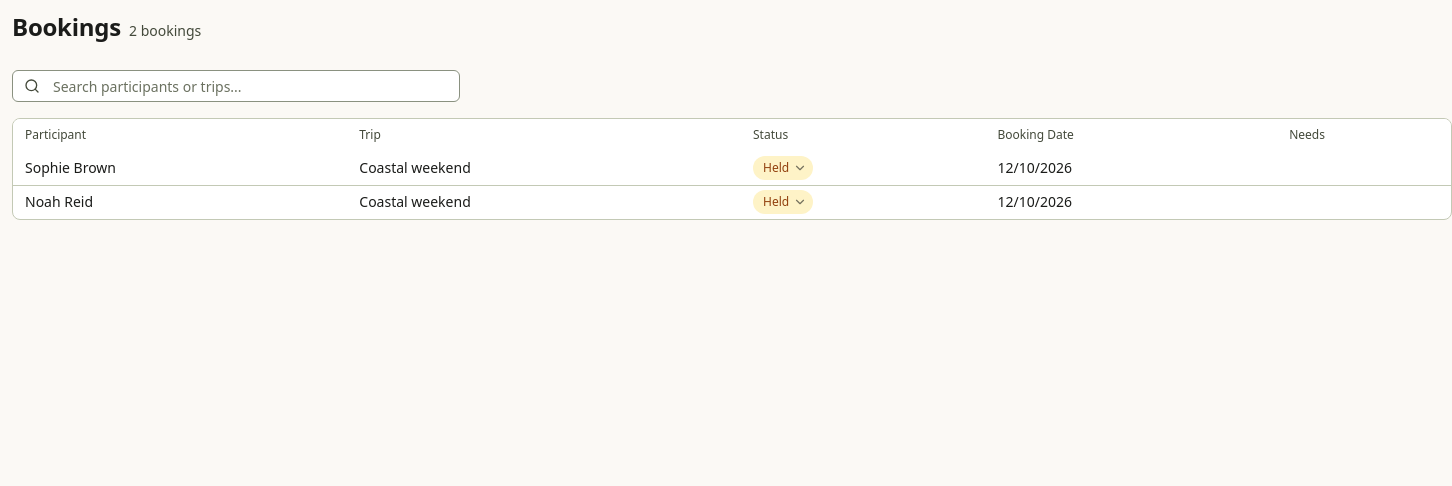
Test: BookingsPage — overlapping status changes, through the real mutation › shows the refusal of the first change after a second one started
The image size is (1452, 486).
Click the button "Held" in the row of "Sophie Brown". click: {"x": 783, "y": 168}
box: [753,156,813,180]
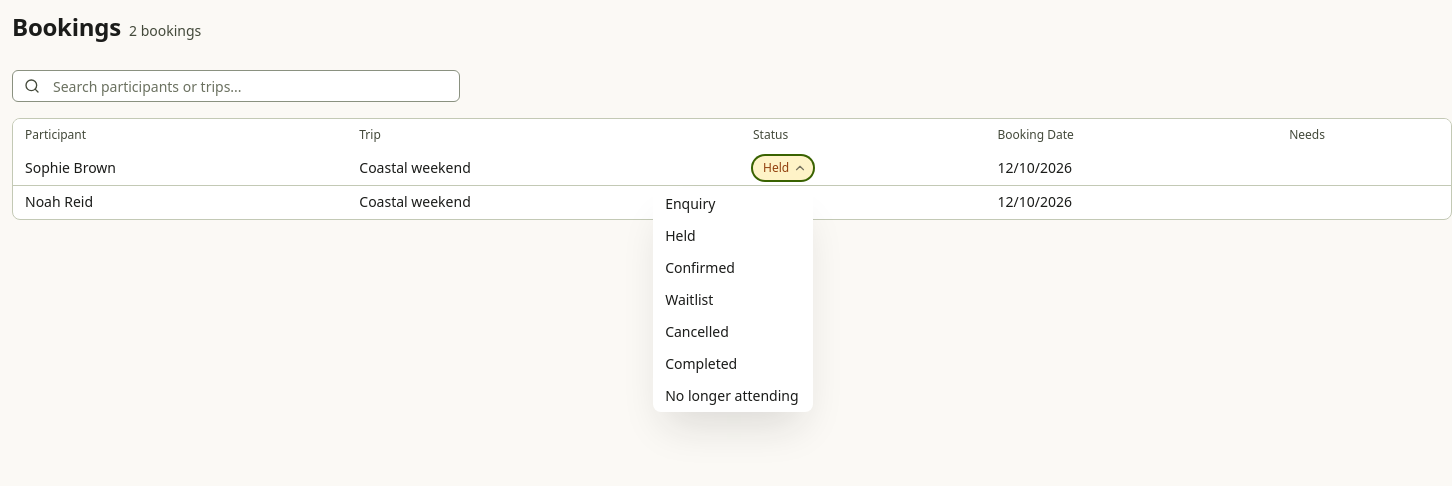
Click the option "Confirmed". click: {"x": 700, "y": 267}
box: [665,258,735,277]
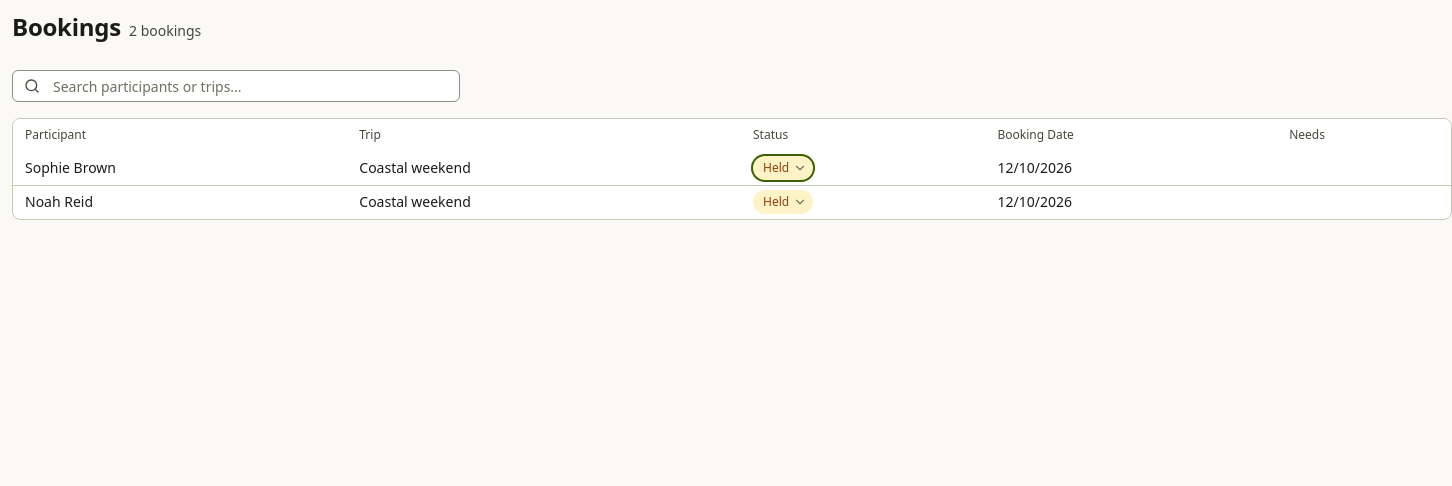
Click the button "Held" in the row of "Noah Reid". click: {"x": 783, "y": 202}
box: [753,190,813,214]
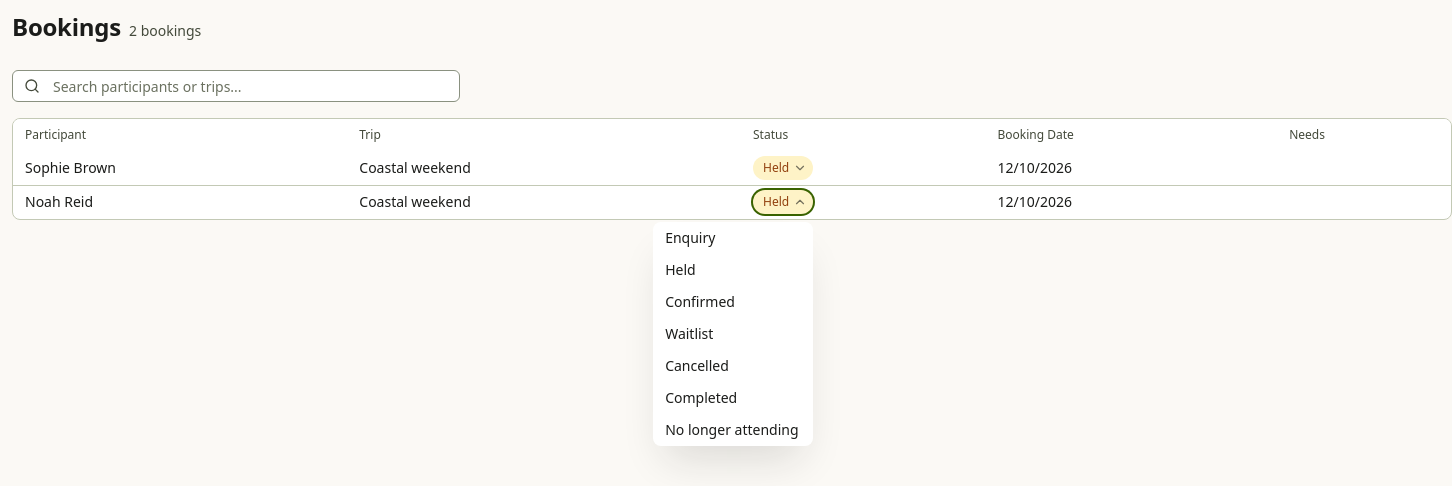
Click the option "Waitlist". click: {"x": 689, "y": 334}
box: [665,324,713,343]
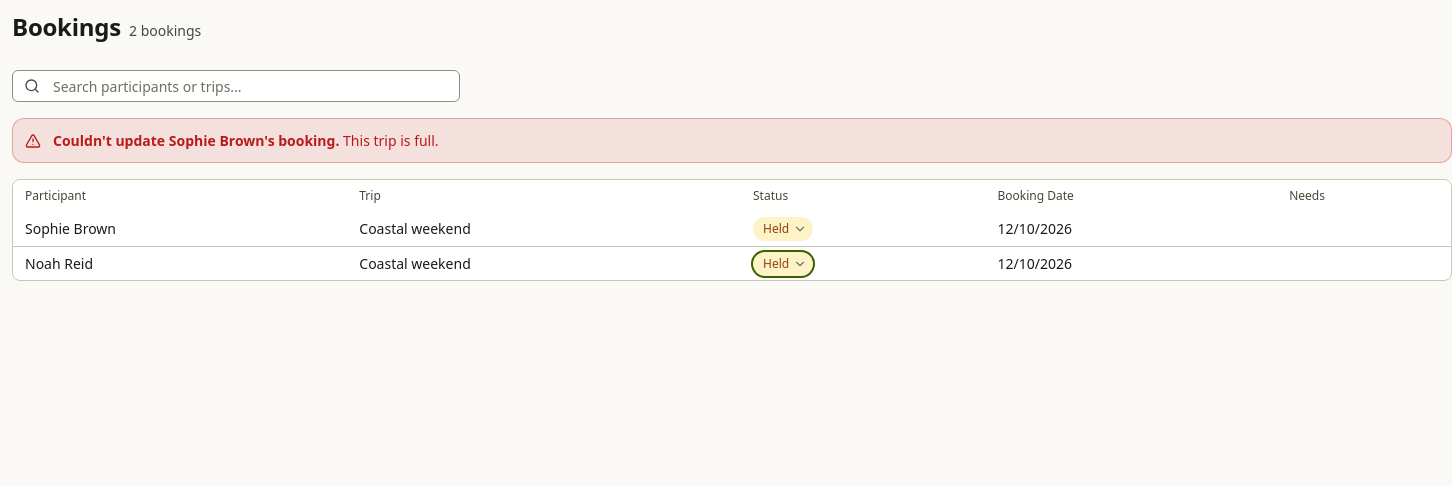
Check: the text "Couldn't update Sophie Brown's booking." is shown, box [53,131,339,150]
Check: the text "Couldn't update Sophie Brown's booking. This trip is full." is shown, box [53,131,439,150]
